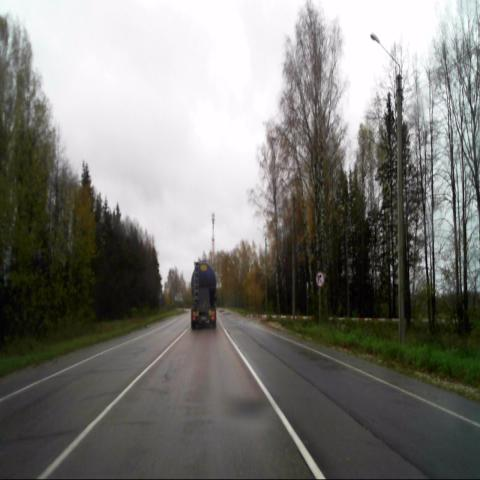3_18: (314, 270, 326, 290)
